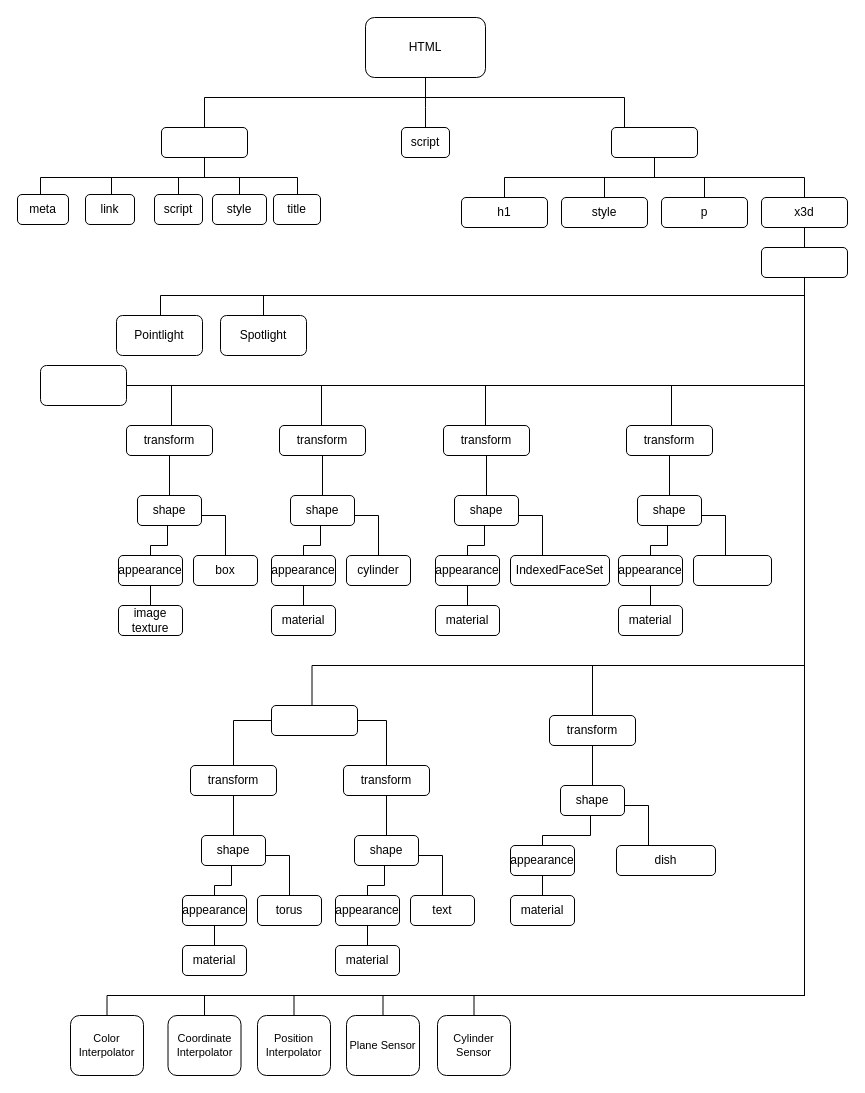
Some shapes in this 865 by 1093 pixel diagram are drawn without their labels. Each missing label, with the box of its shape:
Background: (40, 364, 126, 406)
body: (610, 126, 698, 158)
ElevationGrid: (692, 554, 772, 586)
group: (270, 704, 358, 736)
head: (160, 126, 248, 158)
Scene: (760, 246, 848, 278)
